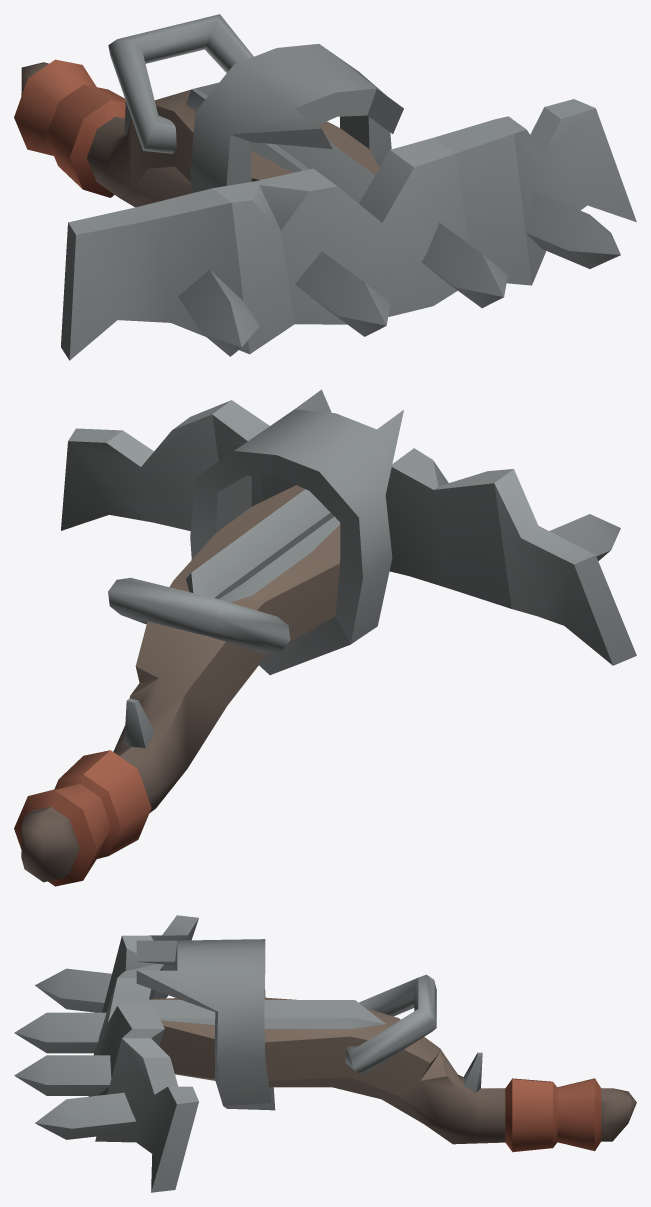
Rendered from Skeleton_Crossbow.glb.
The picture shows the model from 3 angles, top to bottom: view 1: azimuth 30°, elevation 25°; view 2: azimuth 150°, elevation 25°; view 3: azimuth 270°, elevation 25°; orthographic projection. The views are drawn at different scales.
Size of the model in its own units: 1.11 by 0.5082 by 1.42.
Materials: 1 (1 with a texture image).
